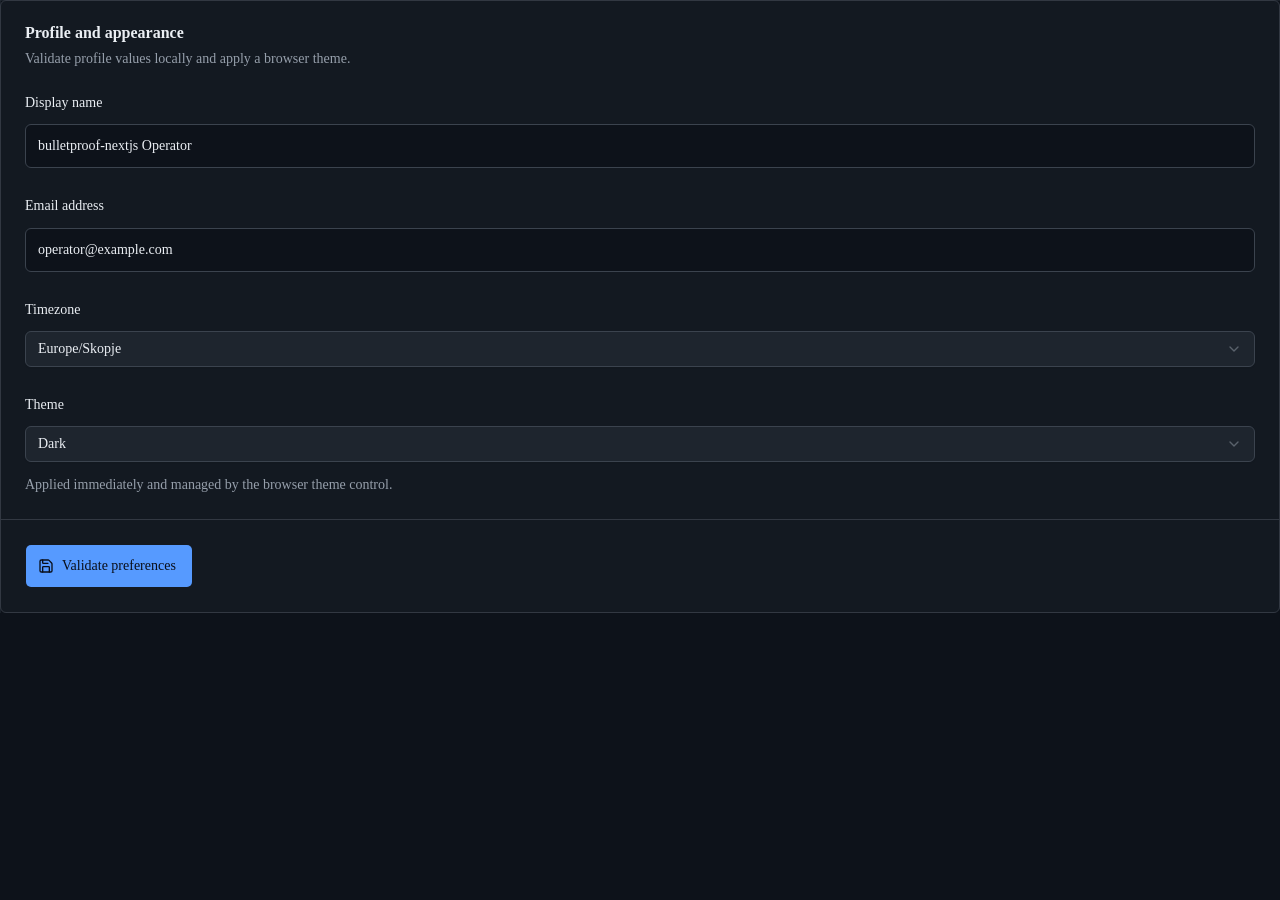
Scenario: SettingsForm › clears success state after validated values change
The image size is (1280, 900).
Click the button "Validate preferences". click: coordinates (109, 566)
box: [25,544,193,588]
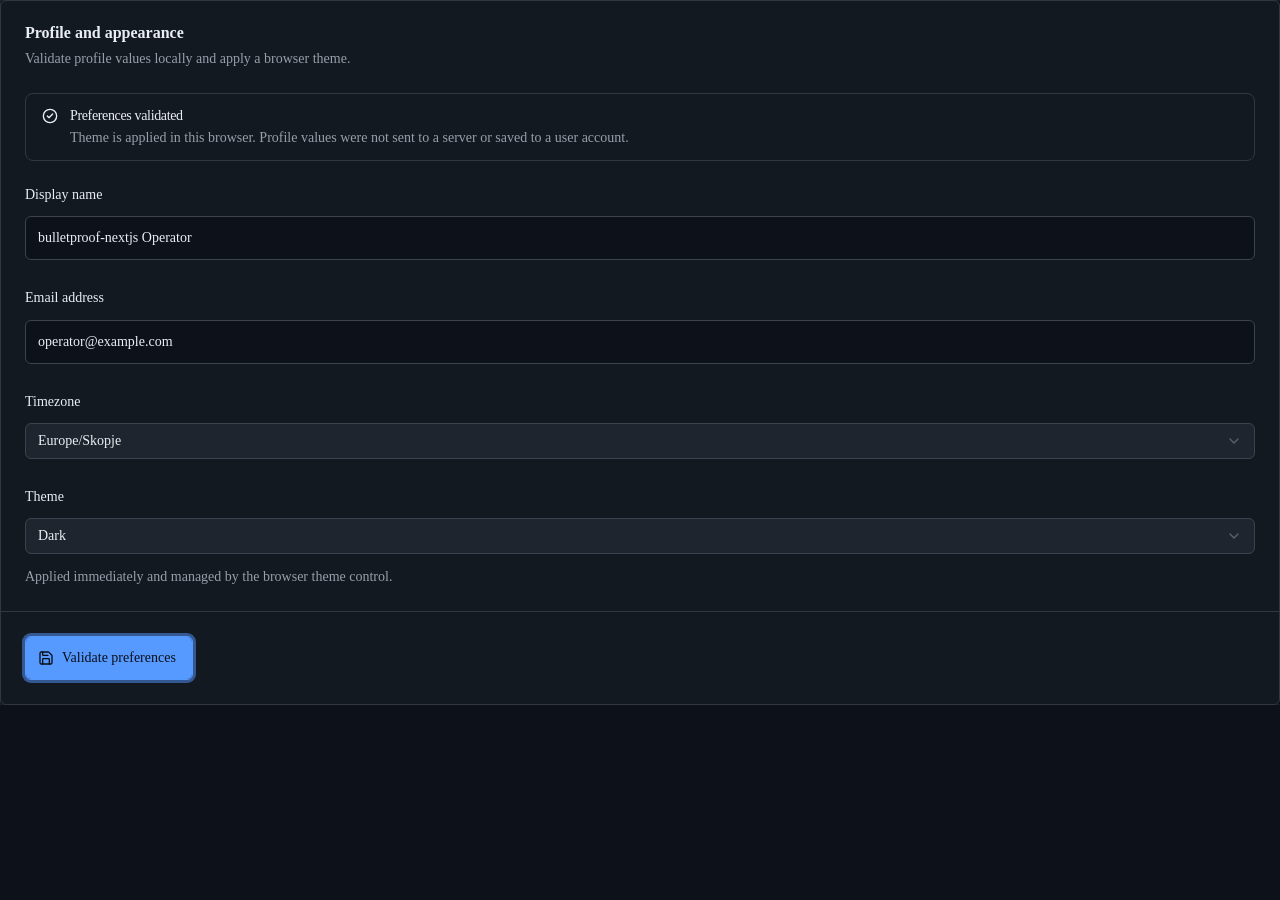
Now the message shows "Preferences validated", box [70,108,183,123]
Type "!" into the field labelled "Display name". click: coordinates (640, 238)
box: [25,216,1255,260]
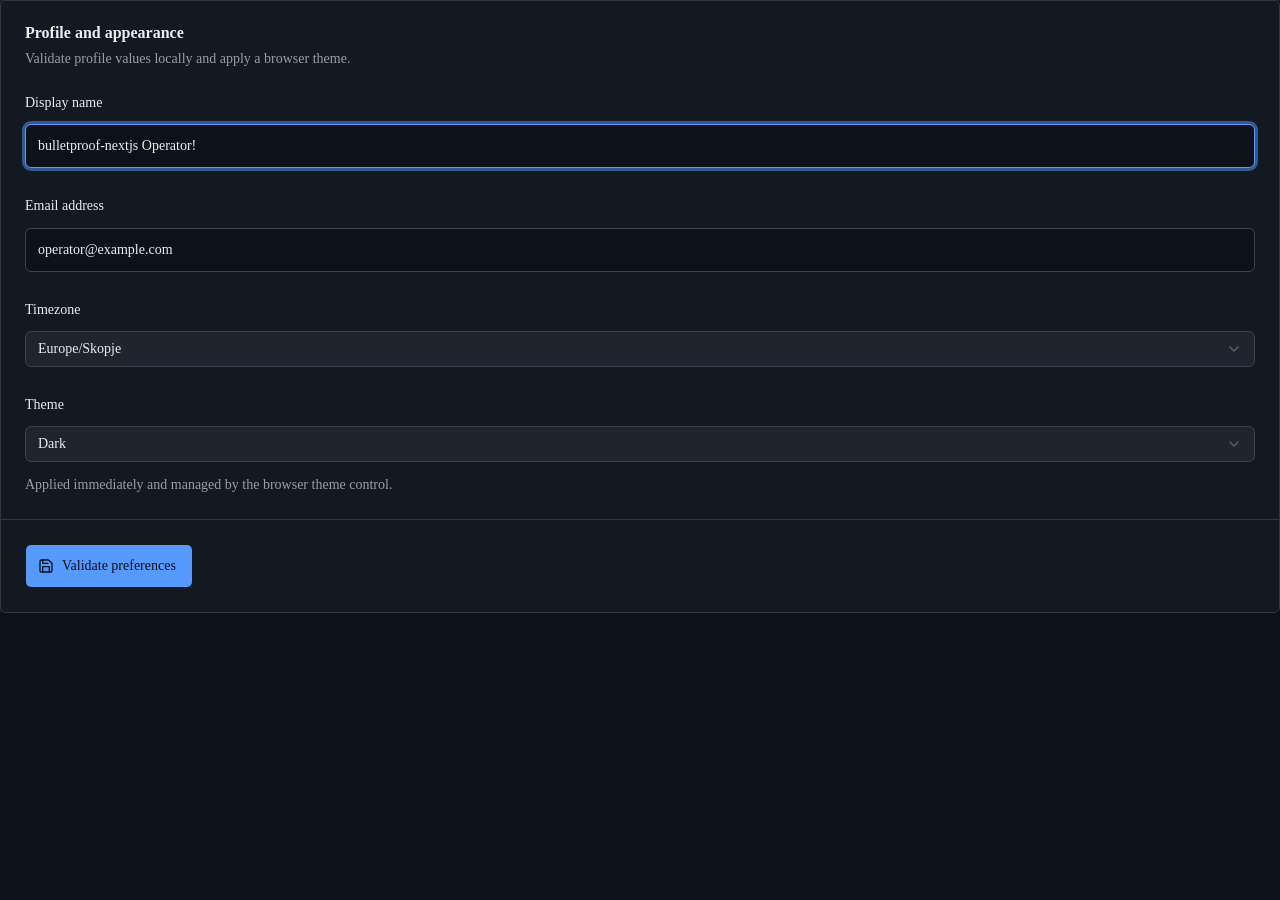
Now the message "Preferences validated Theme is applied in this browser. Profile values were not" is gone
